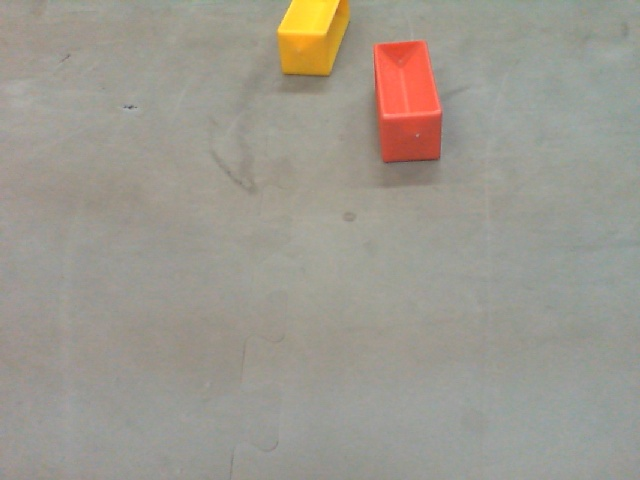RedSample: (370, 38, 445, 165)
YellowSample: (279, 1, 350, 77)
